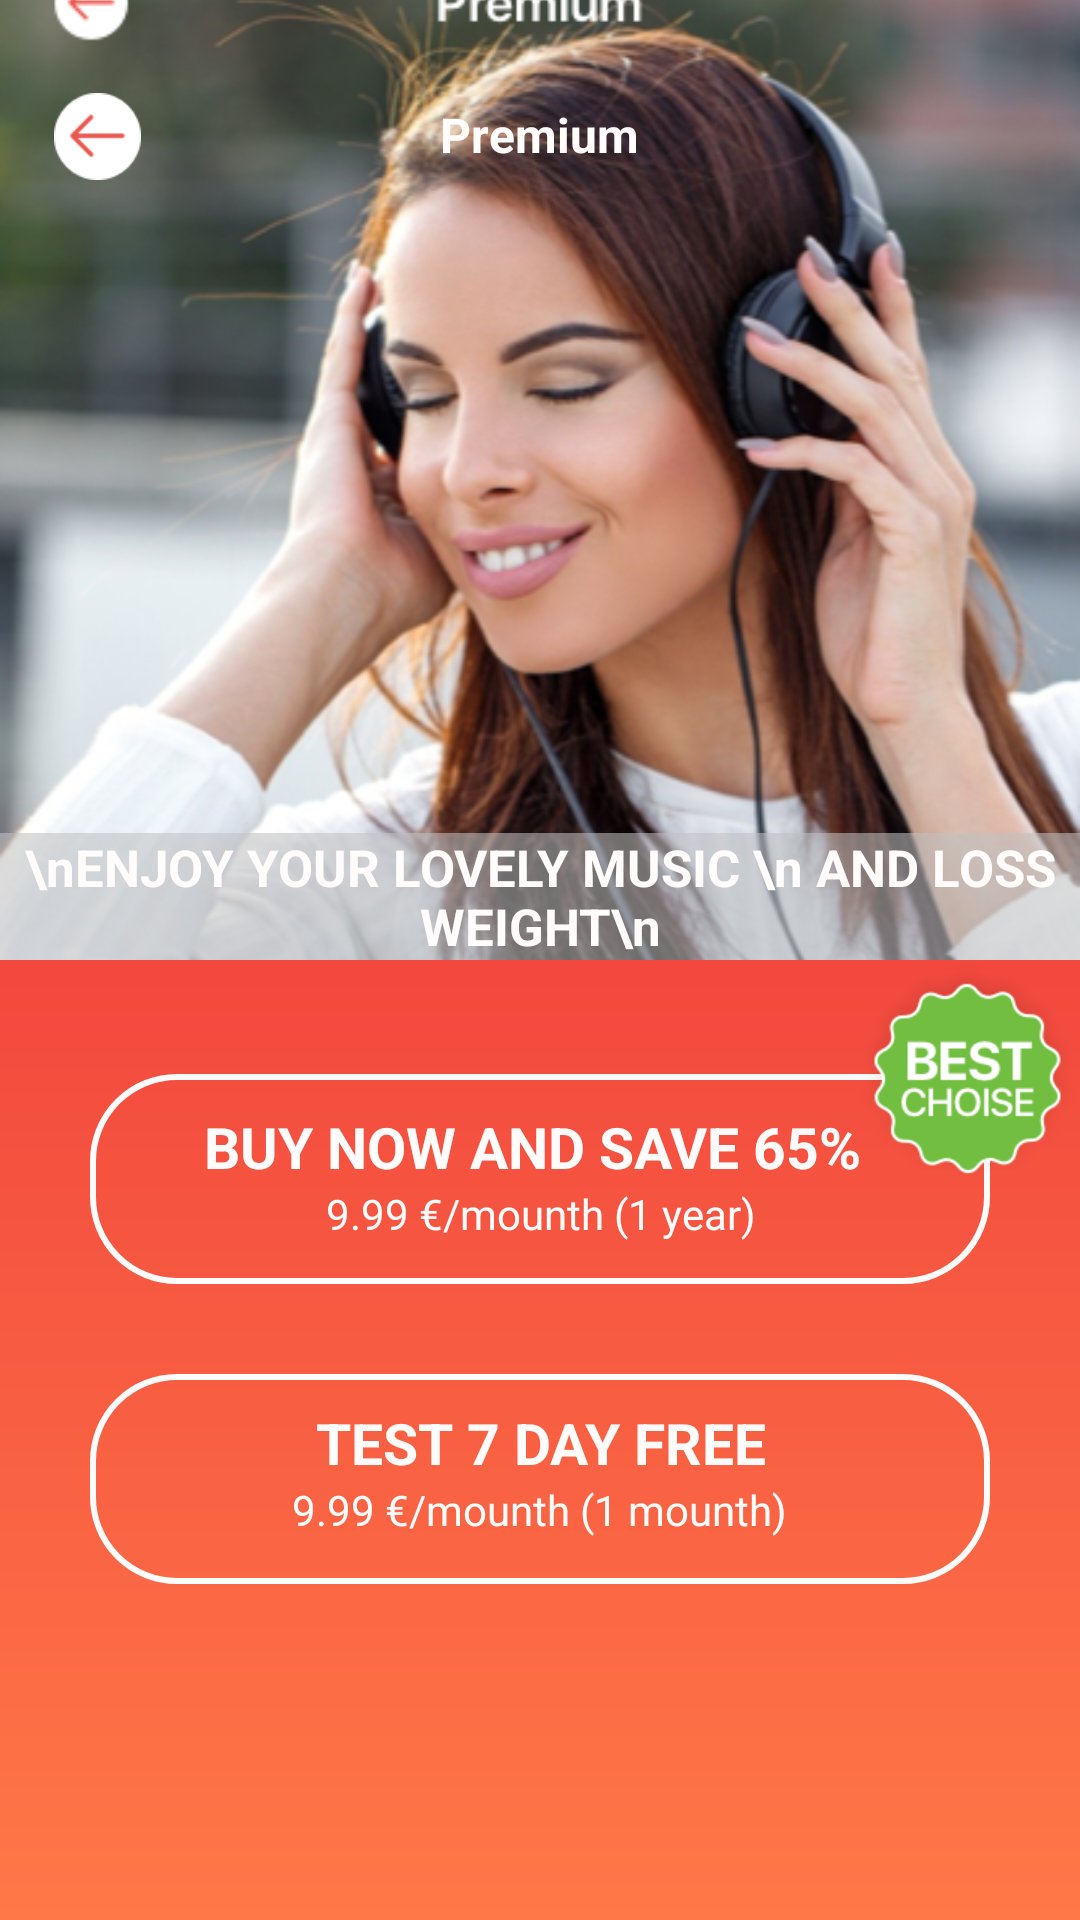

Locate icon controls on the screen. Image size 1080 × 1920, boxes as (x1, y1, x2, y2).
back: (54, 93, 141, 180)
